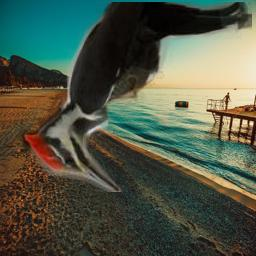Woodpecker: (9, 2, 252, 192)
